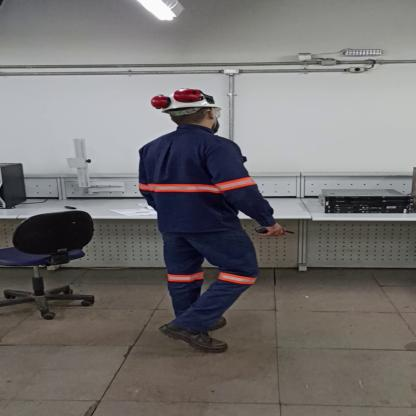Capacete: (153, 84, 222, 110)
